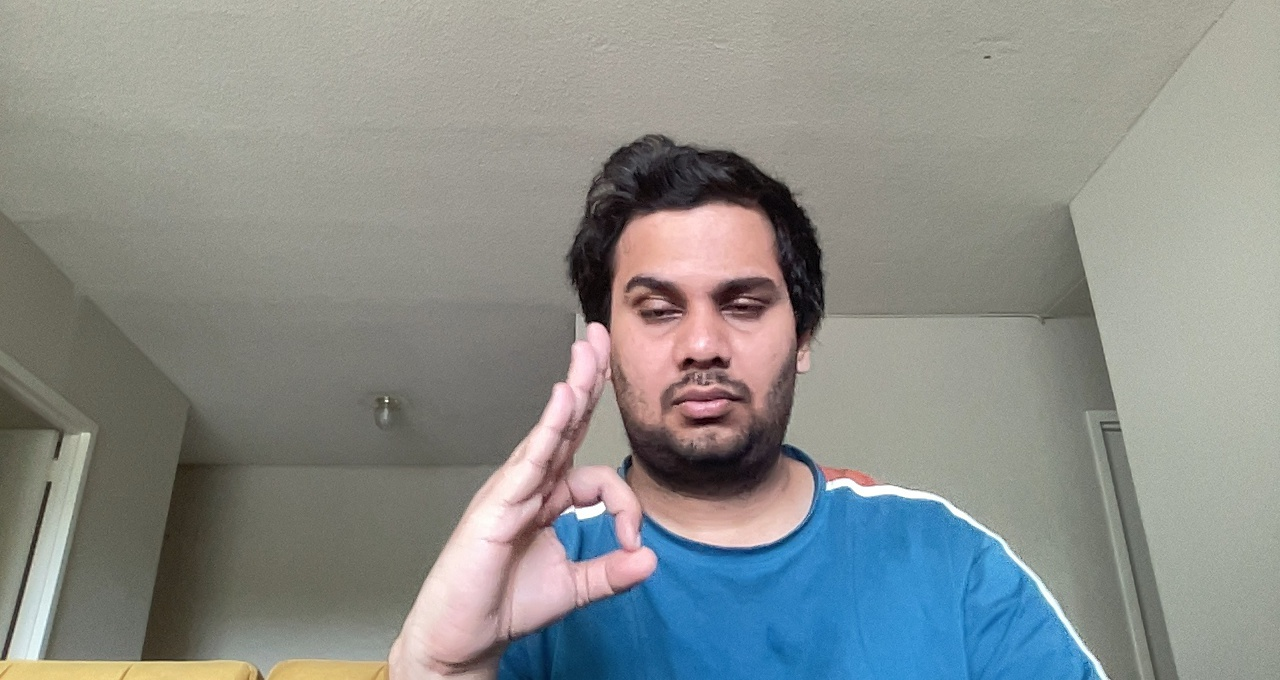ok: (420, 317, 666, 656)
